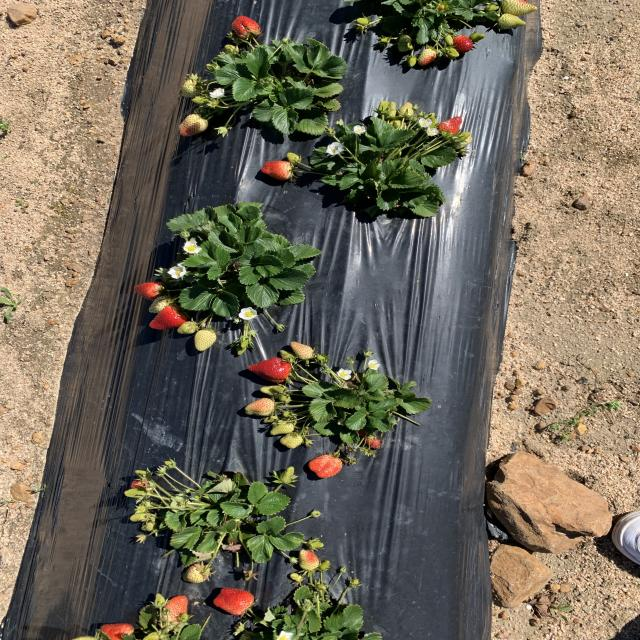unripe: (245, 353, 295, 384), (148, 301, 194, 332), (214, 587, 256, 616), (226, 16, 268, 44), (161, 595, 192, 626), (308, 454, 344, 478), (433, 115, 468, 138), (97, 622, 139, 640), (260, 160, 296, 179), (134, 282, 166, 300), (361, 433, 381, 451), (130, 477, 152, 493), (454, 36, 474, 52)
